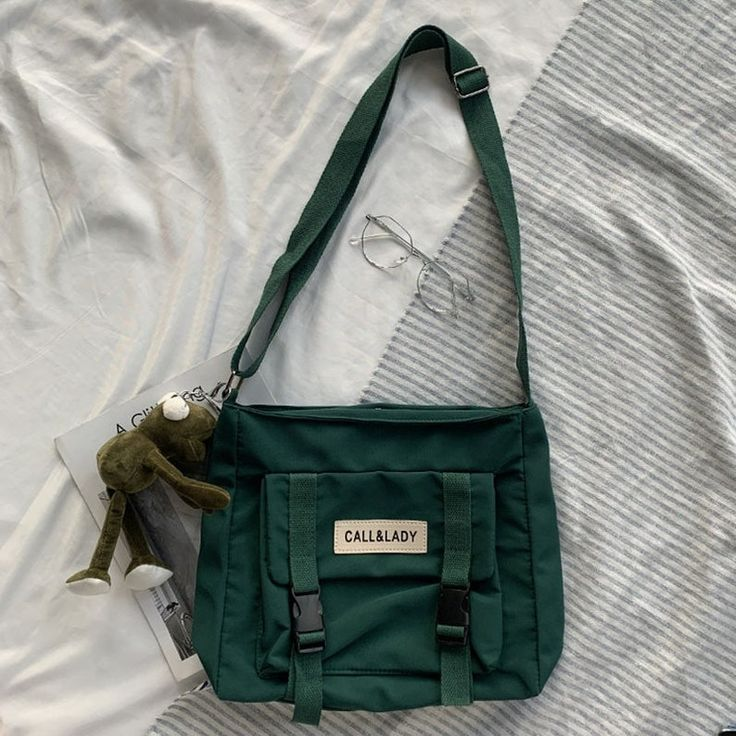nylon: (189, 25, 566, 727)
